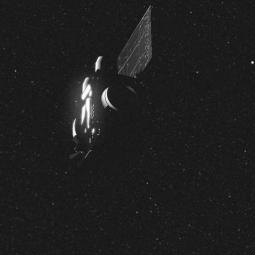proba_3_csc: (53, 3, 161, 172)
